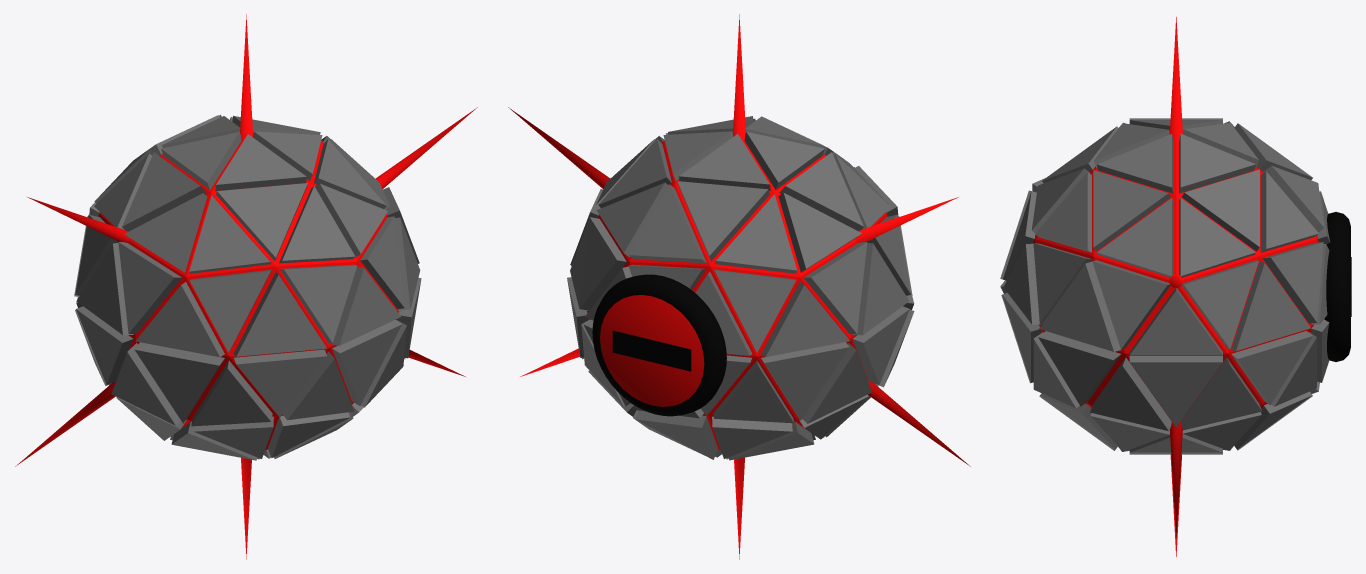
File: BombEnemy(Stay).fbx
The picture shows the model from 3 angles, left to right: view 1: azimuth 30°, elevation 25°; view 2: azimuth 150°, elevation 25°; view 3: azimuth 270°, elevation 25°; orthographic projection.
Visible parts, largest first — view 1: ICO球.001, ICO球, 円錐.003, 円錐, 円錐.002; view 2: ICO球.001, 円柱, トーラス, ICO球, 立方体, 円錐.003, 円錐, 円錐.002; view 3: ICO球.001, ICO球, トーラス, 円錐, 円錐.002.
Boxes of the visible parts, <box> form: ICO球.001: <box>74,114,421,460</box>; ICO球: <box>98,140,398,449</box>; 円錐.003: <box>15,107,477,466</box>; 円錐: <box>240,14,252,559</box>; 円錐.002: <box>27,197,465,376</box>; ICO球.001: <box>567,116,914,460</box>; 円柱: <box>600,295,704,406</box>; トーラス: <box>592,274,726,416</box>; ICO球: <box>587,140,887,449</box>; 立方体: <box>612,330,691,371</box>; 円錐.003: <box>508,107,970,466</box>; 円錐: <box>733,14,745,559</box>; 円錐.002: <box>520,197,958,376</box>; ICO球.001: <box>1000,118,1330,454</box>; ICO球: <box>1032,141,1318,420</box>; トーラス: <box>1324,212,1350,361</box>; 円錐: <box>1169,17,1182,556</box>; 円錐.002: <box>1169,421,1182,536</box>.
Bounding box in the file's own units: 3.56 × 4 × 2.33.
